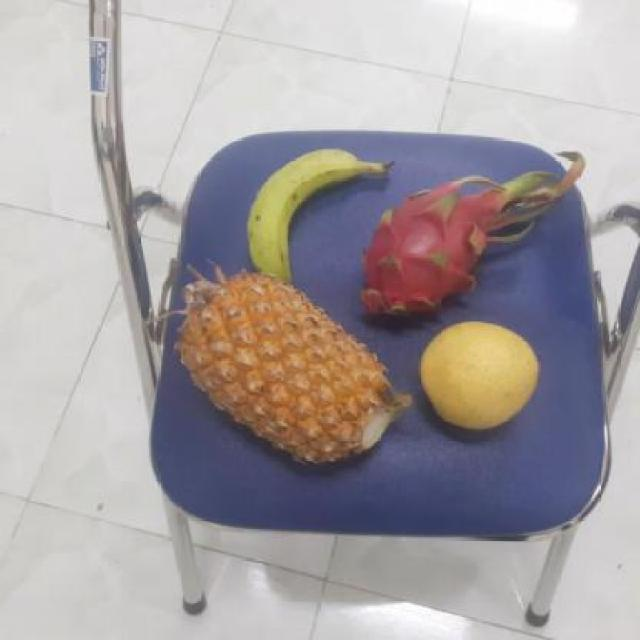banana: (239, 146, 379, 282)
dragon fruit: (355, 181, 507, 324)
pear: (412, 324, 542, 436)
pineapple: (173, 268, 404, 464)
